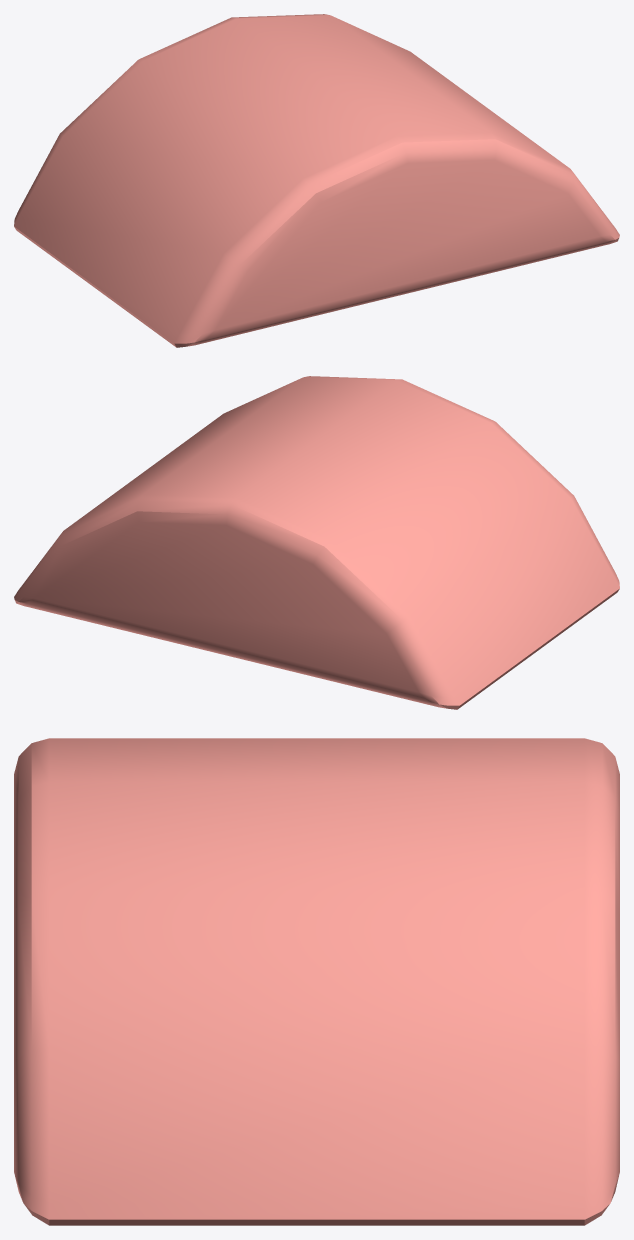
File: circle sector brick.fbx
3 views of the same model, one above another, from view 1: azimuth 30°, elevation 25°; view 2: azimuth 150°, elevation 25°; view 3: azimuth 270°, elevation 25° (orthographic). The views are drawn at different scales.
Parts seen in each view (by area): view 1: Cube.009; view 2: Cube.009; view 3: Cube.009.
Boxes of the visible parts, x1,y1,x2,y2 form: Cube.009: (14,14,619,347); Cube.009: (14,376,619,709); Cube.009: (14,738,619,1225).
Bounding box in the file's own units: 2.76 × 0.937 × 1.94.
